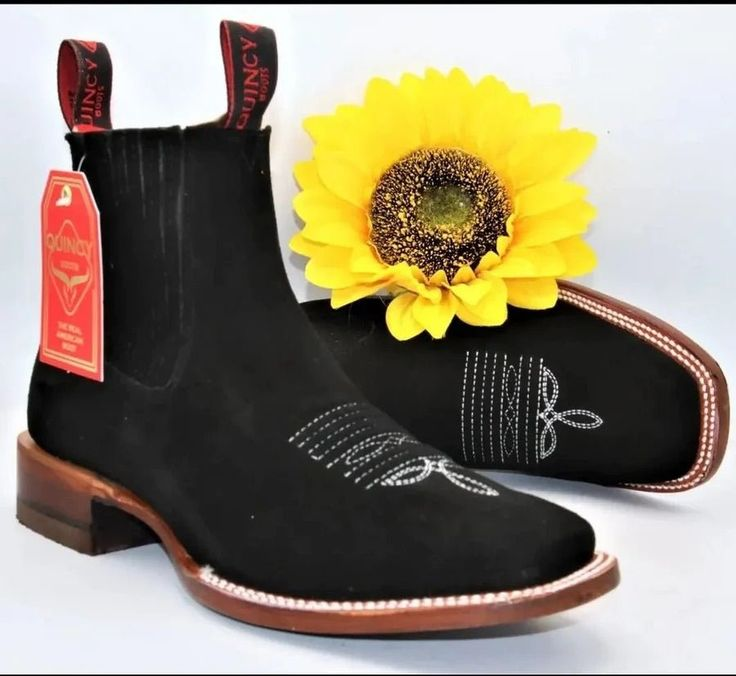gamuza: (26, 126, 705, 602)
